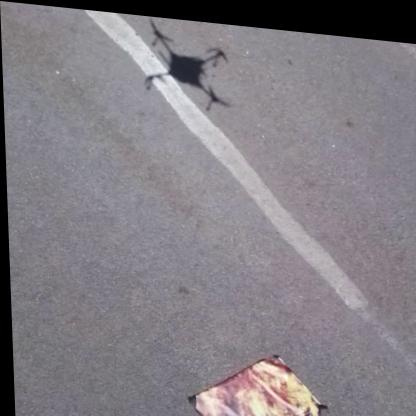fire-poster: (183, 340, 329, 416)
